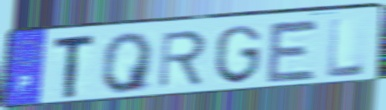E: (264, 18, 322, 85)
G: (213, 23, 263, 86)
L: (326, 15, 368, 80)
Q: (101, 30, 157, 96)
R: (156, 28, 209, 91)
T: (51, 32, 99, 102)
